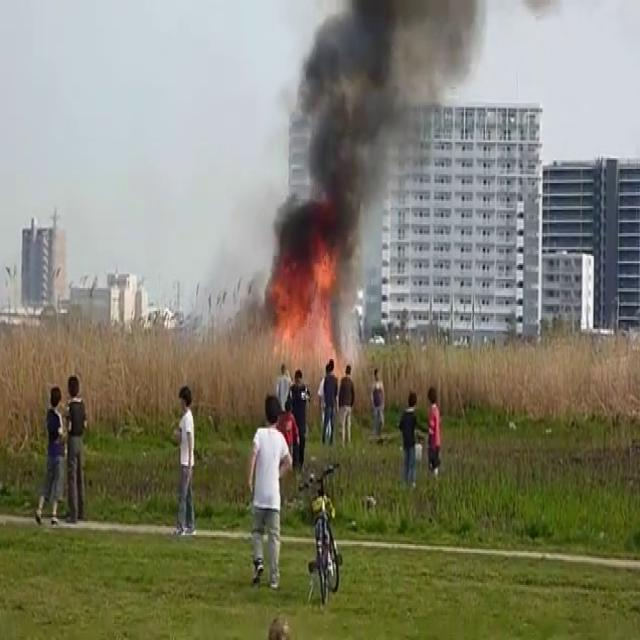Fire: (261, 251, 349, 368)
Smoke: (261, 0, 456, 276)
